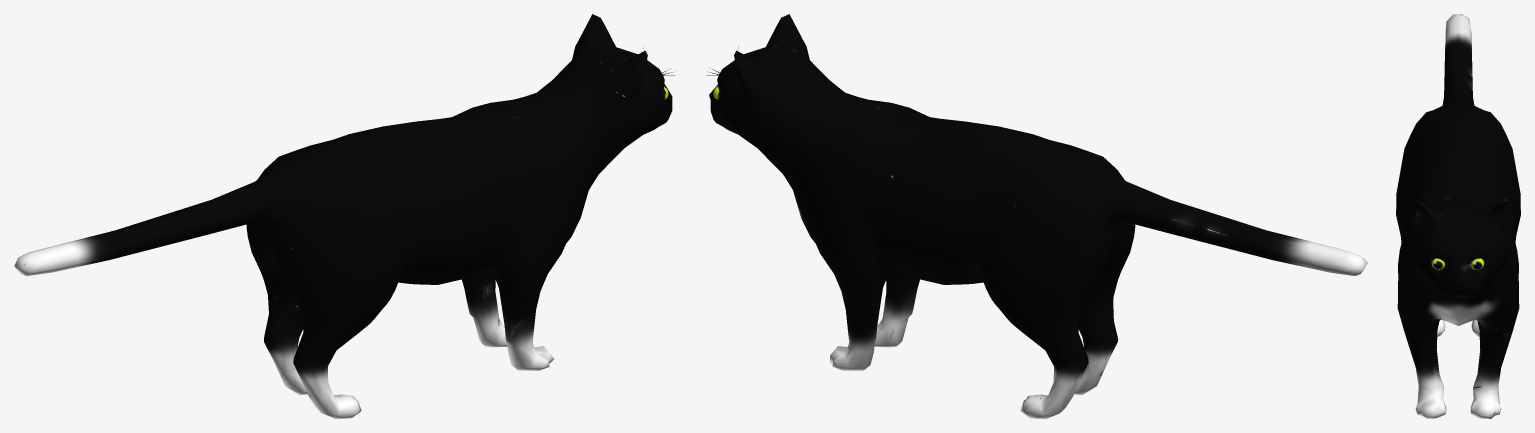
Rendered from tuxpolycat.glb.
The picture shows the model from 3 angles, left to right: view 1: azimuth 30°, elevation 25°; view 2: azimuth 150°, elevation 25°; view 3: azimuth 270°, elevation 25°; orthographic projection. The views are drawn at different scales.
Visible parts, largest first — view 1: cat; view 2: cat; view 3: cat.
Boxes of the visible parts, x1,y1,x2,y2 form: cat: (14, 14, 674, 418); cat: (706, 14, 1367, 418); cat: (1396, 14, 1520, 418).
Bounding box in the file's own units: 23.49 × 10.21 × 4.45.
1 material, 1 textured.
